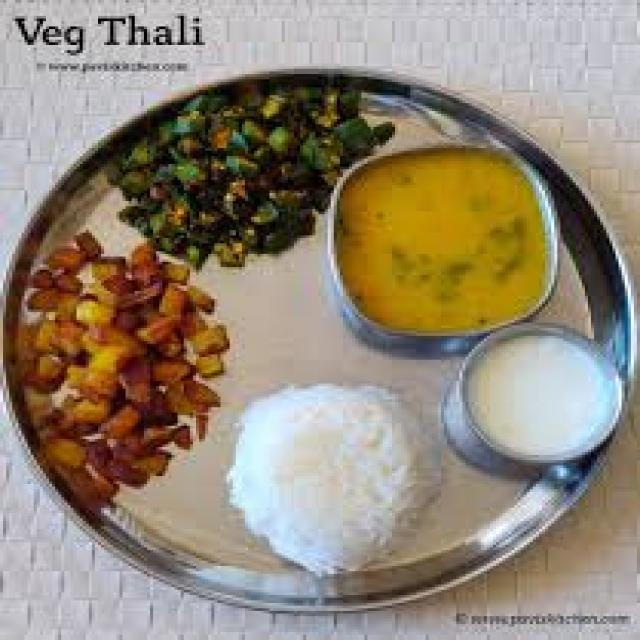curd: (449, 324, 634, 472)
dal: (331, 156, 547, 340)
rice: (218, 378, 429, 577)
